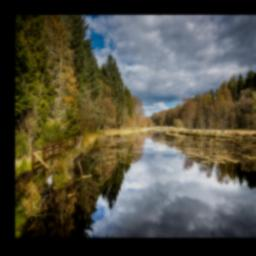Cuckoo: (39, 173, 55, 209)
